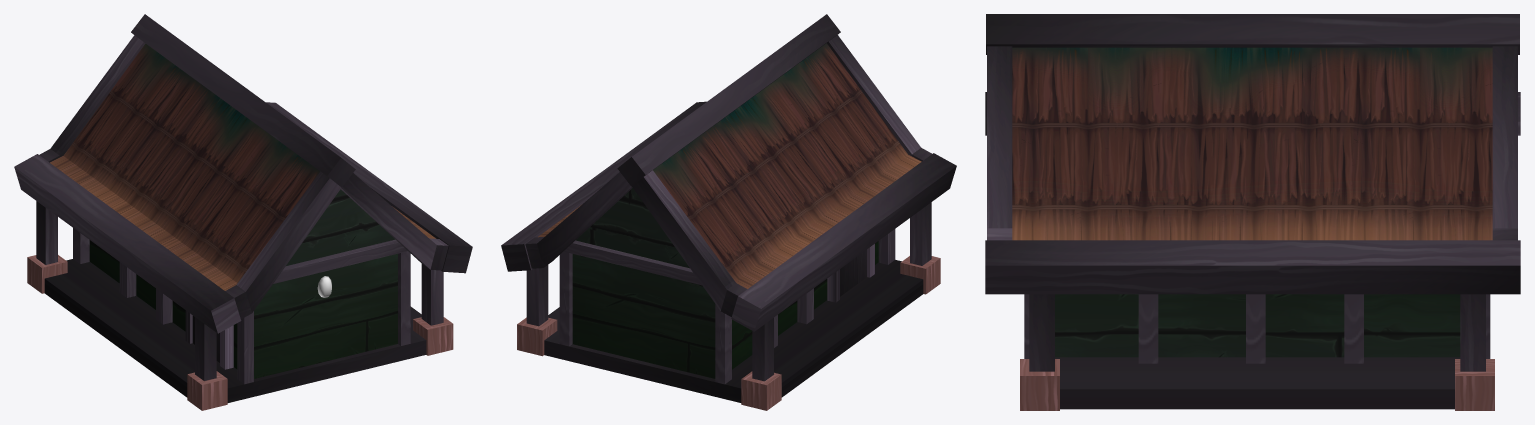
The model's file is Rumah 3.fbx.
The picture shows the model from 3 angles, left to right: view 1: azimuth 30°, elevation 25°; view 2: azimuth 150°, elevation 25°; view 3: azimuth 270°, elevation 25°; orthographic projection. The views are drawn at different scales.
Visible parts, largest first — view 1: Plane, Plane.001, Cube.018, Cube.017, Plane.003, Cube.011, Cube, Cube.010, Cube.012, Cube.020, Cube.005, Cube.021 (+6 smaller); view 2: Plane, Plane.001, Cube.018, Cube.017, Plane.003, Cube.011, Cube, Cube.010, Cube.013, Cube.007, Cube.022, Cube.008 (+6 smaller); view 3: Plane, Cube.010, Plane.001, Cube.018, Cube.011, Plane.003, Cube, Cube.020, Cube.022, Cube.001, Cube.002, Cube.015.
Part boxes in pixels (<box>): Plane: <box>50,43,436,290</box>; Plane.001: <box>89,189,397,378</box>; Cube.018: <box>44,259,426,402</box>; Cube.017: <box>14,154,241,333</box>; Plane.003: <box>39,35,448,319</box>; Cube.011: <box>131,14,355,187</box>; Cube: <box>27,255,453,410</box>; Cube.010: <box>266,102,472,273</box>; Cube.012: <box>273,239,407,283</box>; Cube.020: <box>421,264,443,325</box>; Cube.005: <box>398,251,410,345</box>; Cube.021: <box>36,201,57,264</box>; Plane: <box>538,43,921,288</box>; Plane.001: <box>572,188,878,378</box>; Cube.018: <box>544,259,923,402</box>; Cube.017: <box>731,153,956,331</box>; Plane.003: <box>525,35,931,316</box>; Cube.011: <box>617,14,840,186</box>; Cube: <box>517,256,940,410</box>; Cube.010: <box>501,101,706,271</box>; Cube.013: <box>563,240,701,285</box>; Cube.007: <box>559,251,572,346</box>; Cube.022: <box>526,265,548,326</box>; Cube.008: <box>715,304,731,384</box>; Plane: <box>1012,47,1492,240</box>; Cube.010: <box>985,240,1520,294</box>; Plane.001: <box>1055,294,1460,357</box>; Cube.018: <box>1055,357,1460,409</box>; Cube.011: <box>986,14,1519,54</box>; Plane.003: <box>987,46,1517,240</box>; Cube: <box>1020,359,1494,410</box>; Cube.020: <box>1029,294,1054,371</box>; Cube.022: <box>1460,294,1485,371</box>; Cube.001: <box>1138,294,1158,363</box>; Cube.002: <box>1344,294,1363,363</box>; Cube.015: <box>1246,294,1265,363</box>.
Bounding box in the file's own units: 274 × 232 × 357.
